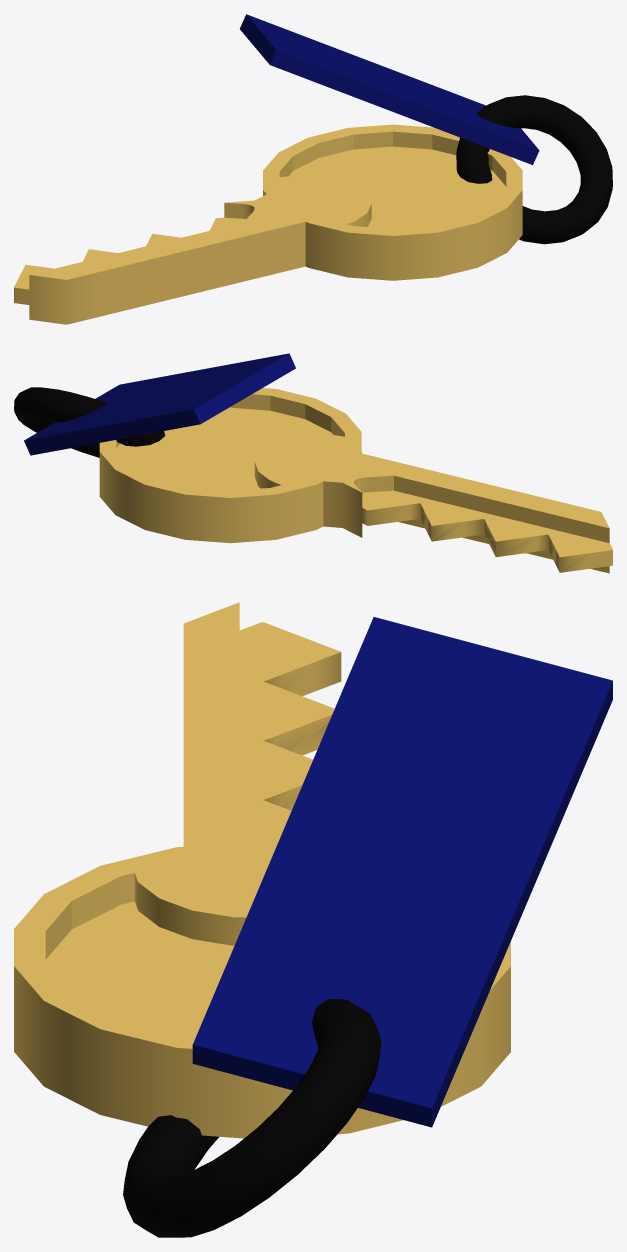
File: ROOM KEYS - BLUE.fbx
3 renders of one model, top to bottom at view 1: azimuth 30°, elevation 25°; view 2: azimuth 150°, elevation 25°; view 3: azimuth 270°, elevation 25°, orthographic. The views are drawn at different scales.
Parts seen in each view (by area): view 1: Cylinder001, Box001, Box002, Torus001, Cylinder002; view 2: Cylinder001, Box001, Box002, Cylinder002, Torus001; view 3: Box002, Cylinder001, Box001, Torus001, Cylinder002.
Part boxes in pixels (x1,y1,x2,y2): Cylinder001: [263, 124, 522, 280]; Box001: [14, 190, 317, 324]; Box002: [240, 14, 539, 164]; Torus001: [456, 95, 612, 244]; Cylinder002: [270, 175, 371, 226]; Cylinder001: [99, 388, 361, 543]; Box001: [307, 449, 612, 573]; Box002: [24, 353, 295, 455]; Cylinder002: [254, 434, 355, 488]; Torus001: [14, 387, 165, 457]; Box002: [192, 617, 612, 1127]; Cylinder001: [14, 841, 510, 1138]; Box001: [183, 602, 341, 860]; Torus001: [123, 999, 381, 1237]; Cylinder002: [134, 848, 274, 945].
Bounding box in the file's own units: 10.31 × 3.41 × 4.75.
